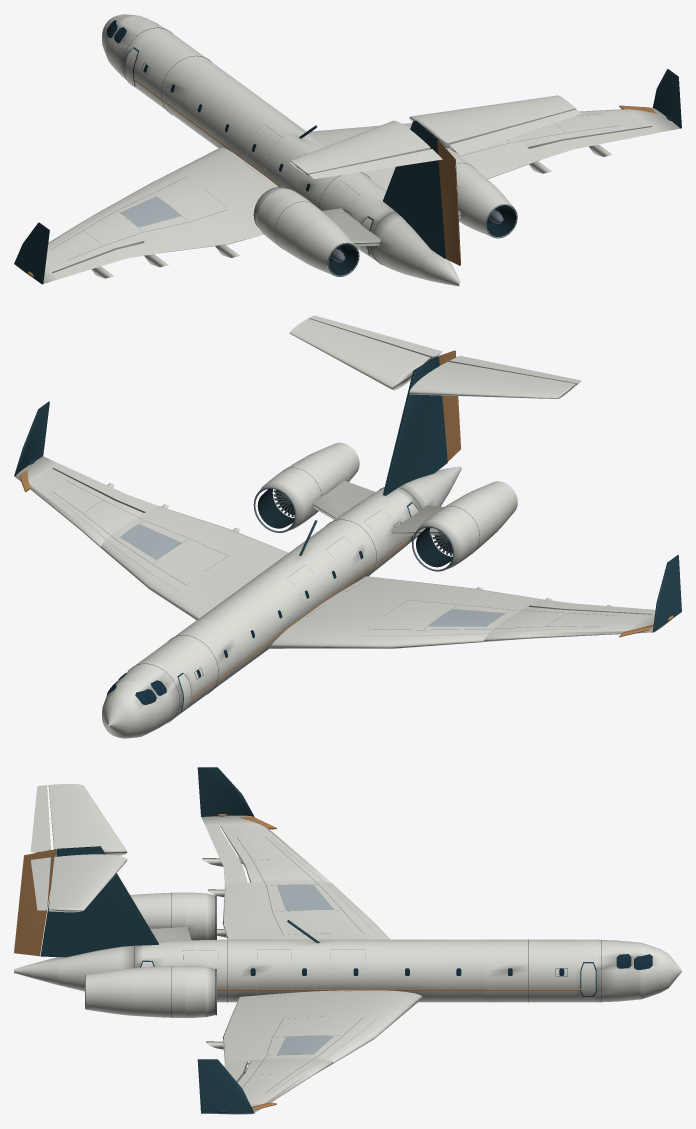
The model's file is player-meridian-hero-v3.glb.
The picture shows the model from 3 angles, top to bottom: view 1: azimuth 30°, elevation 25°; view 2: azimuth 150°, elevation 25°; view 3: azimuth 270°, elevation 25°; orthographic projection. The views are drawn at different scales.
Visible parts, largest first — view 1: hull, trim, service-markings, rudder, elevator-right, aileron-right, elevator-left, dark, aileron-left, metal, accent, cabin; view 2: hull, trim, service-markings, dark, rudder, metal, aileron-right, elevator-right, aileron-left, elevator-left, accent, cabin; view 3: hull, trim, service-markings, rudder, aileron-left, elevator-left, accent, elevator-right, cabin.
Boxes of the visible parts, x1=… form: hull: x1=15, y1=14, x2=680, y2=286; trim: x1=14, y1=27, x2=681, y2=284; service-markings: x1=48, y1=112, x2=619, y2=260; rudder: x1=437, y1=140, x2=460, y2=265; elevator-right: x1=449, y1=109, x2=581, y2=155; aileron-right: x1=529, y1=126, x2=659, y2=159; elevator-left: x1=309, y1=149, x2=442, y2=179; dark: x1=327, y1=205, x2=516, y2=275; aileron-left: x1=53, y1=242, x2=157, y2=278; metal: x1=253, y1=187, x2=517, y2=276; accent: x1=28, y1=78, x2=656, y2=276; cabin: x1=106, y1=20, x2=310, y2=191; hull: x1=15, y1=318, x2=674, y2=738; trim: x1=14, y1=356, x2=681, y2=722; service-markings: x1=48, y1=480, x2=619, y2=636; dark: x1=257, y1=489, x2=452, y2=567; rudder: x1=437, y1=350, x2=460, y2=461; metal: x1=253, y1=487, x2=454, y2=571; aileron-right: x1=52, y1=463, x2=157, y2=512; elevator-right: x1=309, y1=315, x2=442, y2=359; aileron-left: x1=529, y1=599, x2=655, y2=614; elevator-left: x1=449, y1=355, x2=581, y2=385; accent: x1=19, y1=470, x2=673, y2=699; cabin: x1=107, y1=551, x2=363, y2=704; hull: x1=14, y1=784, x2=681, y2=1114; trim: x1=40, y1=767, x2=601, y2=1113; service-markings: x1=183, y1=836, x2=377, y2=1093; rudder: x1=14, y1=849, x2=56, y2=956; aileron-left: x1=206, y1=826, x2=247, y2=884; elevator-left: x1=30, y1=785, x2=50, y2=852; accent: x1=217, y1=814, x2=581, y2=1110; elevator-right: x1=30, y1=857, x2=50, y2=910; cabin: x1=250, y1=954, x2=652, y2=975.
Bounding box in the file's own units: 21.16 × 5.08 × 20.
